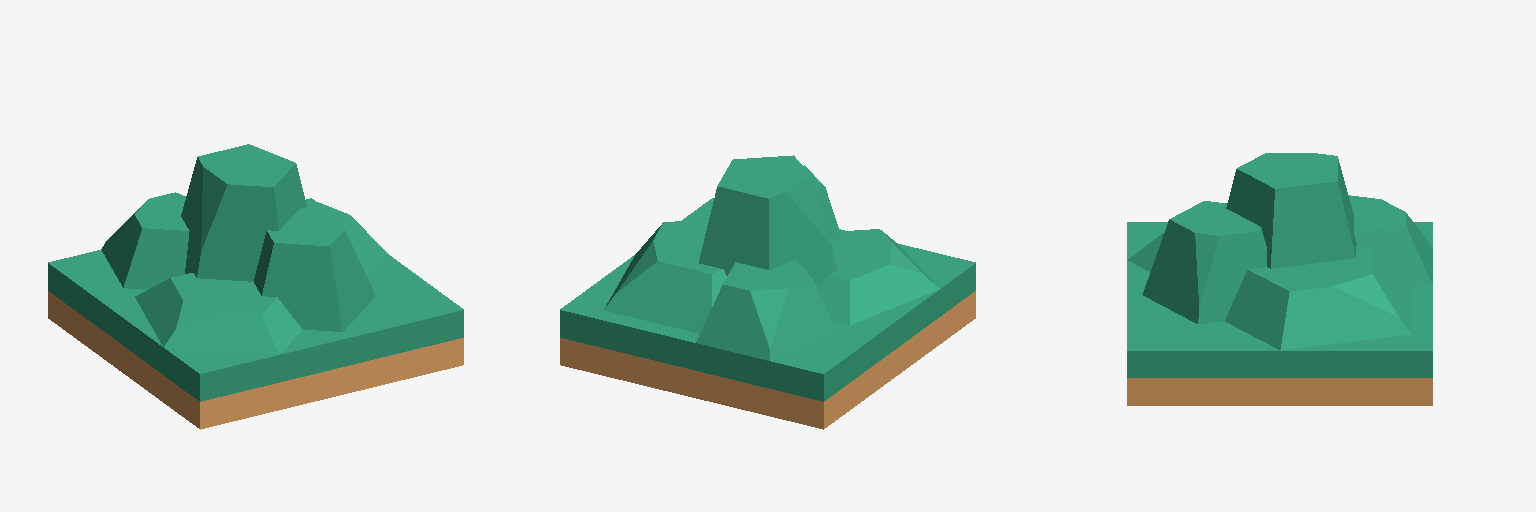
The model's file is tile_hill.obj.
3 renders of one model, left to right at view 1: azimuth 30°, elevation 25°; view 2: azimuth 150°, elevation 25°; view 3: azimuth 270°, elevation 25°, orthographic.
Parts seen in each view (by area): view 1: rocks, tile_hill; view 2: rocks, tile_hill; view 3: rocks, tile_hill.
Boxes of the visible parts, x1,y1,x2,y2 form: rocks: [101, 144, 387, 354]; tile_hill: [48, 198, 463, 429]; rocks: [604, 155, 939, 360]; tile_hill: [560, 198, 975, 429]; rocks: [1128, 153, 1432, 350]; tile_hill: [1127, 222, 1432, 405].
Bounding box in the file's own units: 1 × 0.6186 × 1.